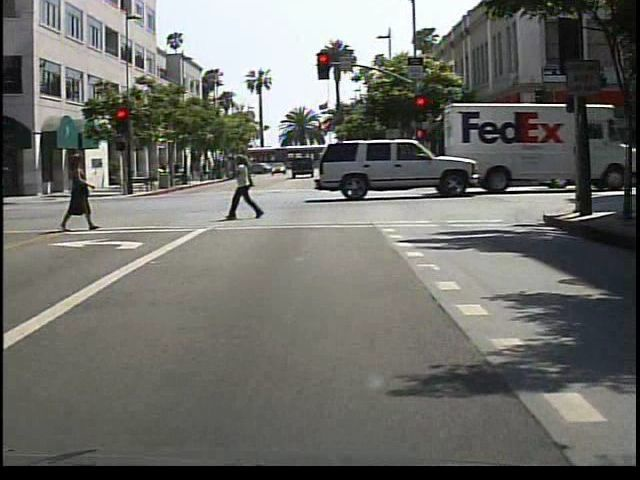person: (62, 147, 104, 232), (229, 151, 265, 221), (1, 152, 22, 235), (173, 158, 186, 185)
